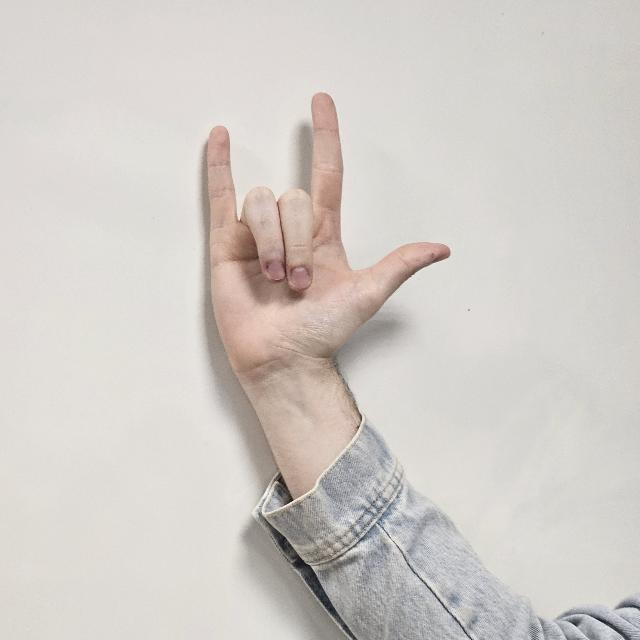Cima: (200, 91, 450, 382)
